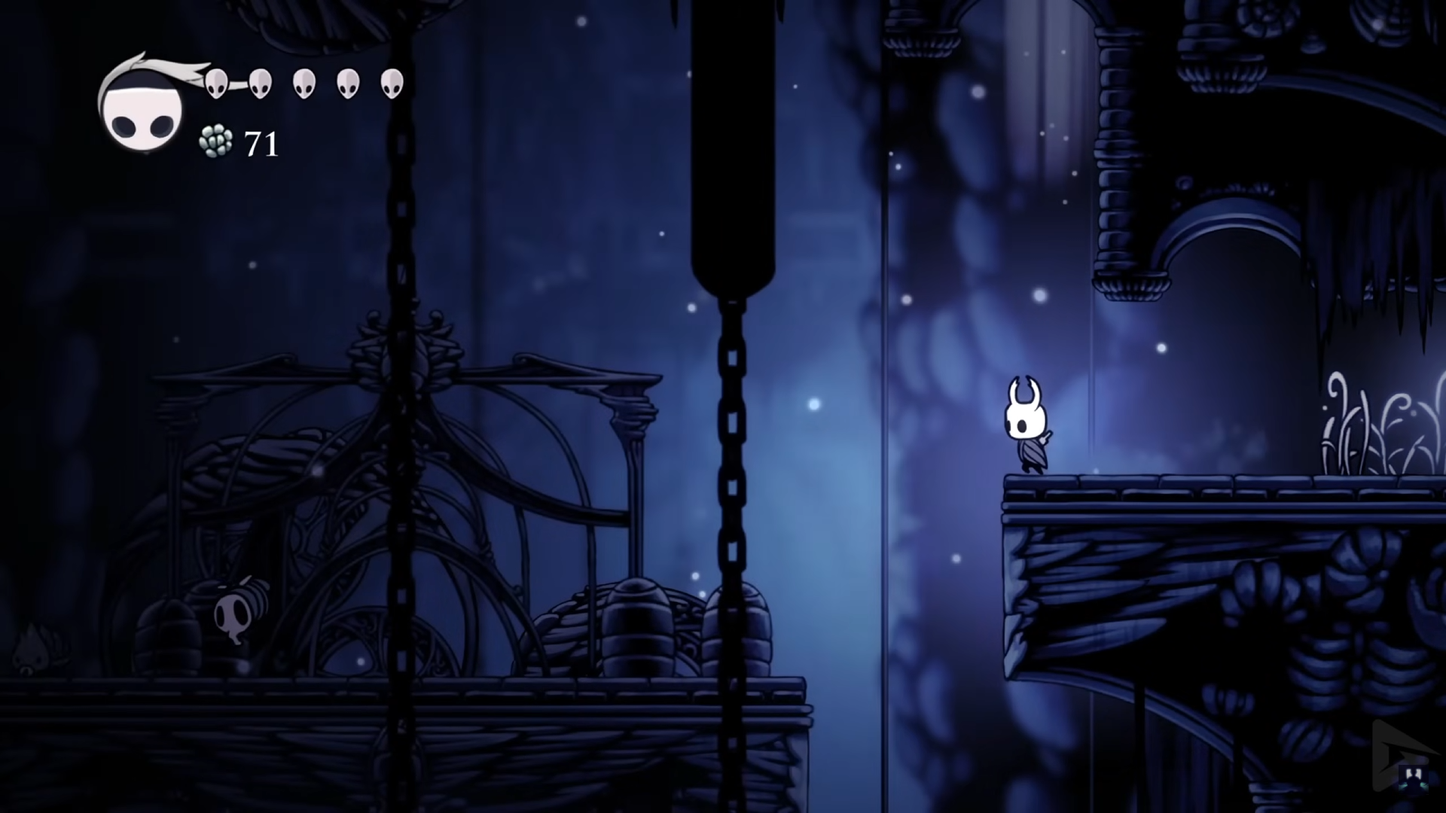HK: (998, 378, 1064, 478)
